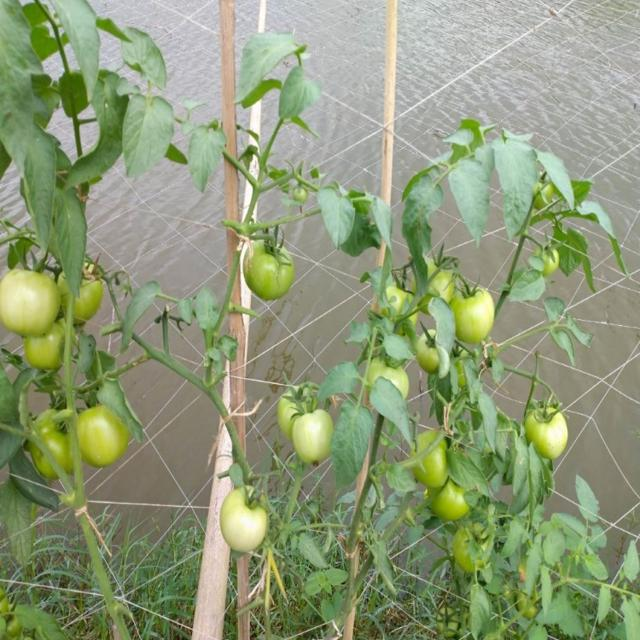tomato: (218, 482, 274, 562), (4, 265, 63, 334), (30, 407, 81, 480), (77, 405, 132, 470), (244, 238, 299, 302), (405, 424, 453, 494), (451, 282, 497, 348), (291, 408, 340, 467), (61, 261, 104, 322), (528, 403, 570, 465), (453, 521, 495, 580), (24, 326, 71, 373), (430, 474, 472, 522), (369, 354, 412, 399), (277, 380, 317, 428), (380, 281, 418, 315), (415, 326, 443, 372), (421, 256, 453, 293), (536, 245, 562, 279)
